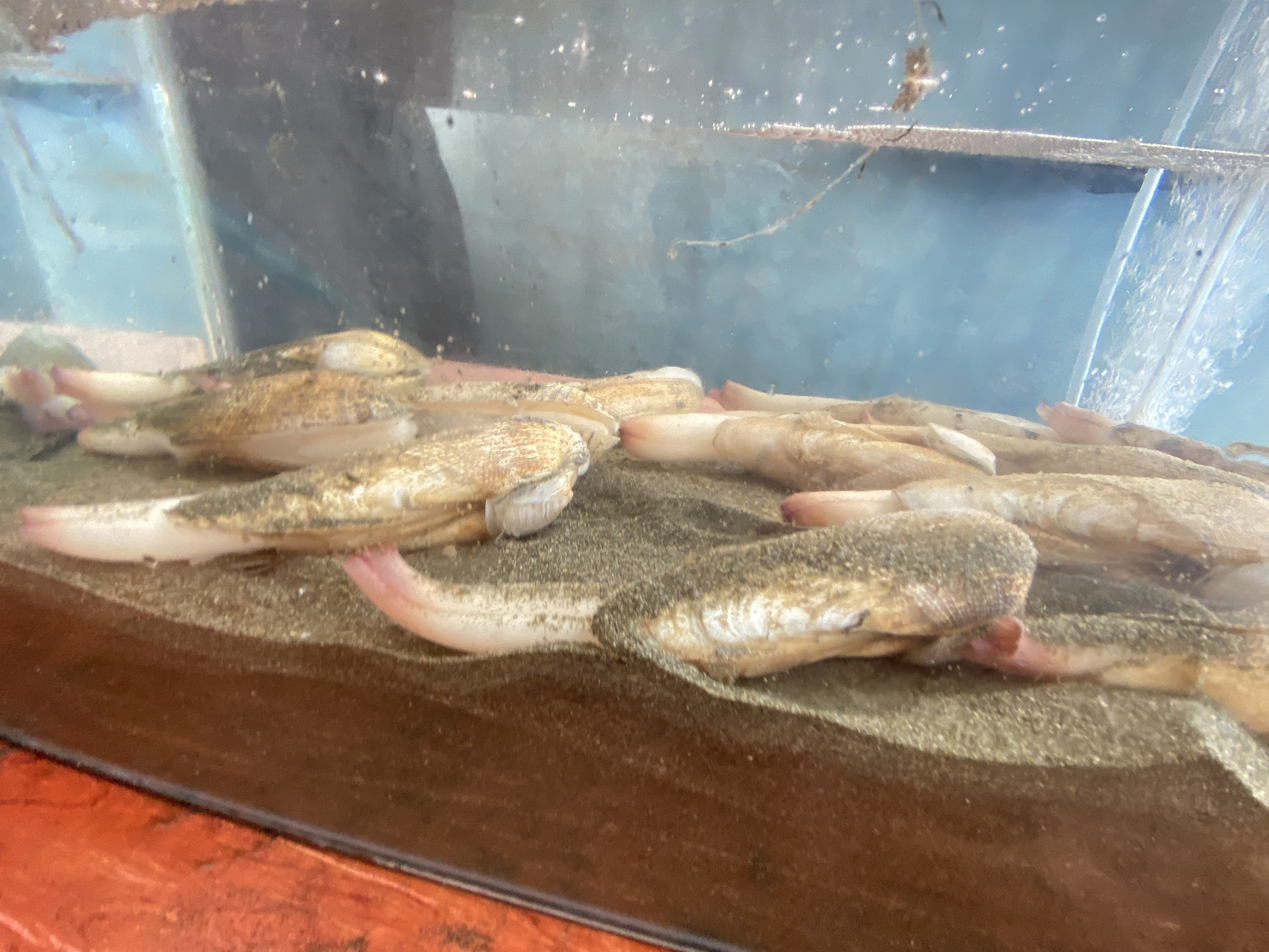Healthy: (345, 513, 1035, 681), (21, 417, 588, 562), (781, 474, 1269, 568), (960, 612, 1269, 733), (50, 329, 429, 418), (620, 412, 995, 490), (77, 384, 415, 469), (717, 380, 1057, 440), (1037, 402, 1269, 482)
